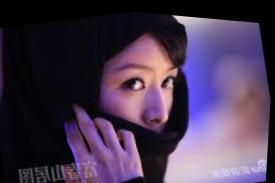WRONG: (77, 31, 202, 166)
